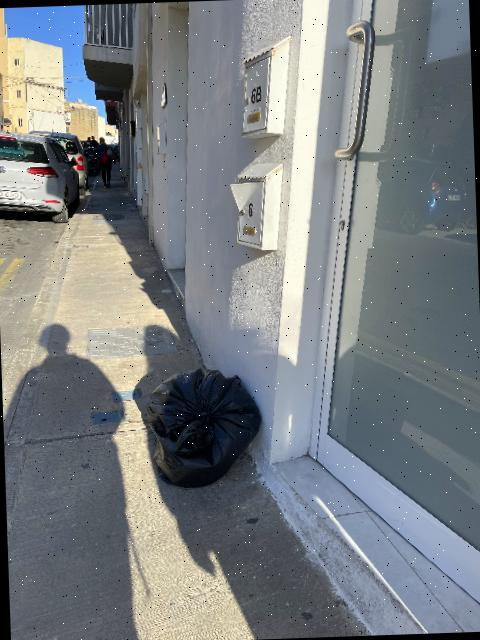Mixed -Black-: (147, 369, 261, 487)
